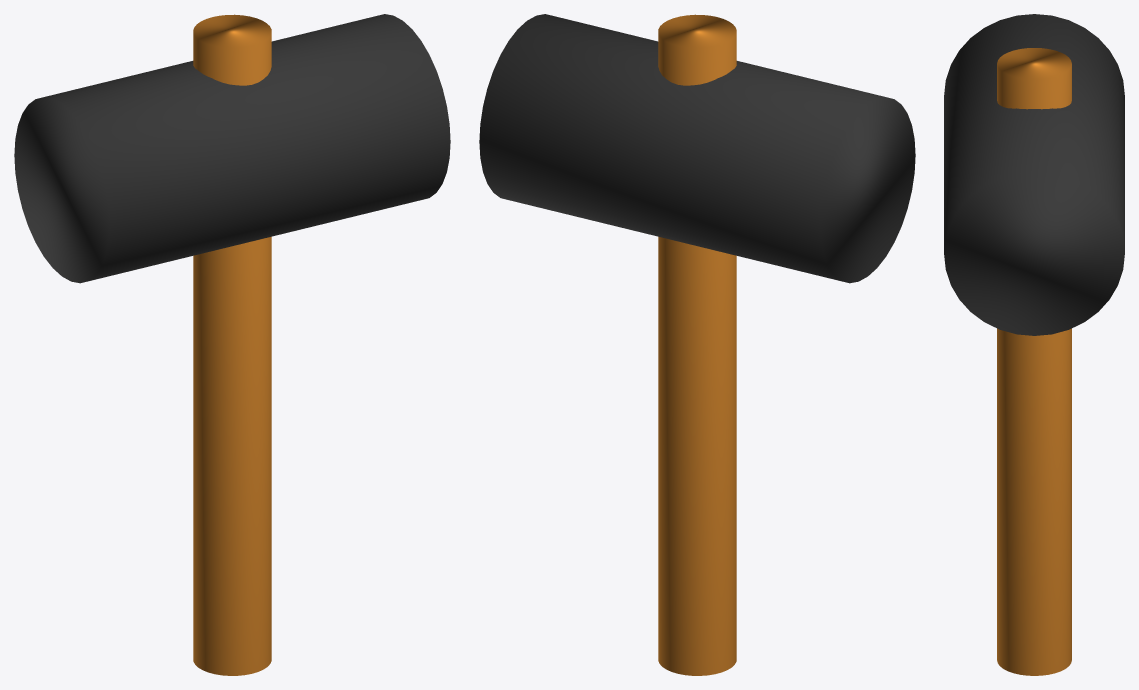
The model's file is hummer.glb.
3 renders of one model, left to right at view 1: azimuth 30°, elevation 25°; view 2: azimuth 150°, elevation 25°; view 3: azimuth 270°, elevation 25°, orthographic. The views are drawn at different scales.
Visible parts, largest first — view 1: Cylinder.001, Cylinder; view 2: Cylinder.001, Cylinder; view 3: Cylinder.001, Cylinder.
Boxes of the visible parts, x1,y1,x2,y2 form: Cylinder.001: (14,14,450,283); Cylinder: (193,14,271,675); Cylinder.001: (479,14,915,283); Cylinder: (658,14,736,675); Cylinder.001: (944,14,1124,335); Cylinder: (997,48,1071,675).
Size of the model in its own units: 10 by 17.59 by 4.83.
